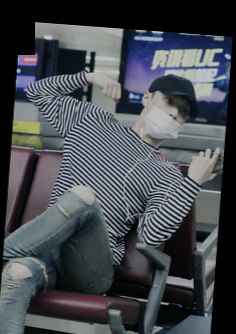mask_weared_incorrect: (146, 93, 189, 139)
